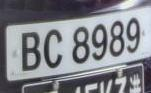8: (69, 20, 92, 69), (108, 15, 127, 62)
9: (90, 19, 110, 65), (126, 15, 143, 58)
B: (18, 28, 44, 75)
C: (41, 26, 68, 74)
